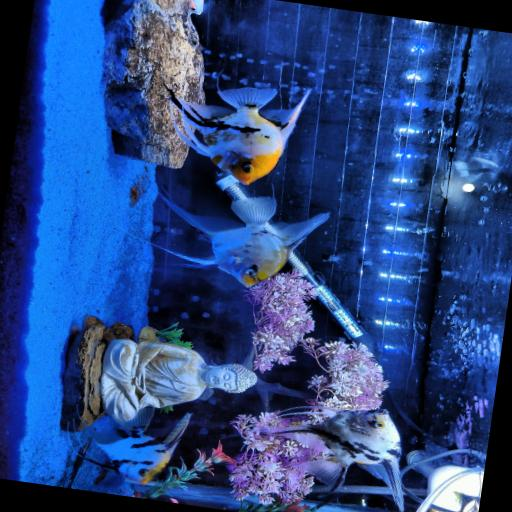Fish: (155, 194, 328, 287), (262, 406, 403, 511), (167, 88, 309, 184), (85, 408, 189, 484)
